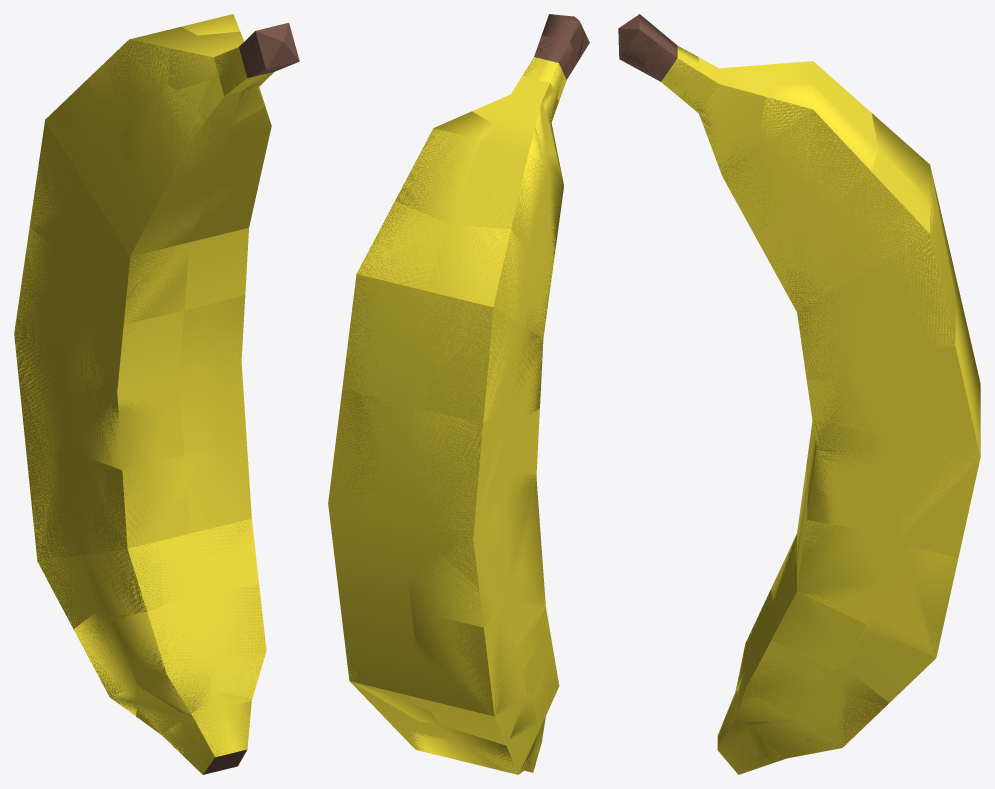
Rendered from banana.glb.
The picture shows the model from 3 angles, left to right: view 1: azimuth 30°, elevation 25°; view 2: azimuth 150°, elevation 25°; view 3: azimuth 270°, elevation 25°; orthographic projection. The views are drawn at different scales.
Visible parts, largest first — view 1: origin, pasted__pCube11 group_cell.022, pasted__pCube11 group_cell.017, pasted__pCube11 group_cell.019, pasted__pCube11 group_cell.003, pasted__pCube11 group_cell.010, pasted__pCube11 group_cell.025, pasted__pCube11 group_cell.035, pasted__pCube11 group_cell.007, pasted__pCube11 group_cell.001, pasted__pCube11 group_cell.009, pasted__pCube11 group_cell (+9 smaller); view 2: origin, pasted__pCube11 group_cell.007, pasted__pCube11 group_cell.032, pasted__pCube11 group_cell.031, pasted__pCube11 group_cell.021, pasted__pCube11 group_cell.026, pasted__pCube11 group_cell.036, pasted__pCube11 group_cell.003, pasted__pCube11 group_cell.010, pasted__pCube11 group_cell.022, pasted__pCube11 group_cell.009, pasted__pCube11 group_cell (+5 smaller); view 3: origin, pasted__pCube11 group_cell.025, pasted__pCube11 group_cell.017, pasted__pCube11 group_cell.021, pasted__pCube11 group_cell.028, pasted__pCube11 group_cell.033, pasted__pCube11 group_cell.036, pasted__pCube11 group_cell.001, pasted__pCube11 group_cell.026, pasted__pCube11 group_cell.032, pasted__pCube11 group_cell.014, pasted__pCube11 group_cell.011 (+3 smaller).
Part boxes in pixels (<box>): origin: <box>14,23,299,774</box>; pasted__pCube11 group_cell.022: <box>59,449,201,616</box>; pasted__pCube11 group_cell.017: <box>179,295,246,454</box>; pasted__pCube11 group_cell.019: <box>116,85,228,200</box>; pasted__pCube11 group_cell.003: <box>65,289,177,470</box>; pasted__pCube11 group_cell.010: <box>106,148,207,323</box>; pasted__pCube11 group_cell.025: <box>184,441,251,591</box>; pasted__pCube11 group_cell.035: <box>110,592,218,714</box>; pasted__pCube11 group_cell.007: <box>14,227,64,455</box>; pasted__pCube11 group_cell.001: <box>202,585,266,694</box>; pasted__pCube11 group_cell.009: <box>87,32,170,133</box>; pasted__pCube11 group_cell: <box>74,609,138,715</box>; origin: <box>328,15,589,774</box>; pasted__pCube11 group_cell.007: <box>402,407,505,627</box>; pasted__pCube11 group_cell.032: <box>413,224,529,422</box>; pasted__pCube11 group_cell.031: <box>411,600,525,716</box>; pasted__pCube11 group_cell.021: <box>395,111,495,223</box>; pasted__pCube11 group_cell.026: <box>328,389,412,551</box>; pasted__pCube11 group_cell.036: <box>342,202,447,401</box>; pasted__pCube11 group_cell.003: <box>504,463,541,585</box>; pasted__pCube11 group_cell.010: <box>497,257,552,416</box>; pasted__pCube11 group_cell.022: <box>504,542,545,695</box>; pasted__pCube11 group_cell.009: <box>451,126,546,248</box>; pasted__pCube11 group_cell: <box>441,693,536,772</box>; origin: <box>618,15,980,774</box>; pasted__pCube11 group_cell.025: <box>771,494,892,668</box>; pasted__pCube11 group_cell.017: <box>807,375,898,524</box>; pasted__pCube11 group_cell.021: <box>760,82,878,208</box>; pasted__pCube11 group_cell.028: <box>770,227,919,379</box>; pasted__pCube11 group_cell.033: <box>844,546,958,667</box>; pasted__pCube11 group_cell.036: <box>824,157,954,348</box>; pasted__pCube11 group_cell.001: <box>735,652,825,725</box>; pasted__pCube11 group_cell.026: <box>898,312,980,536</box>; pasted__pCube11 group_cell.032: <box>871,113,955,295</box>; pasted__pCube11 group_cell.014: <box>807,668,888,752</box>; pasted__pCube11 group_cell.011: <box>712,131,823,228</box>.
Size of the model in its own units: 13.89 by 65.53 by 28.88.
